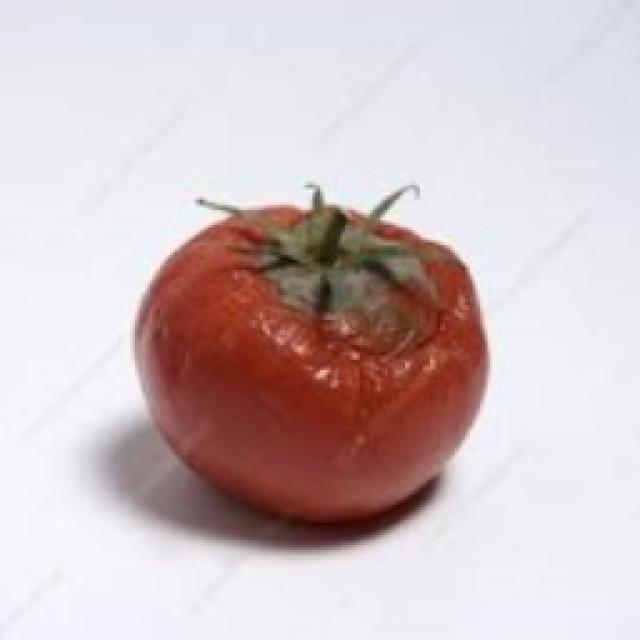overripe tomato: (120, 180, 509, 526)
